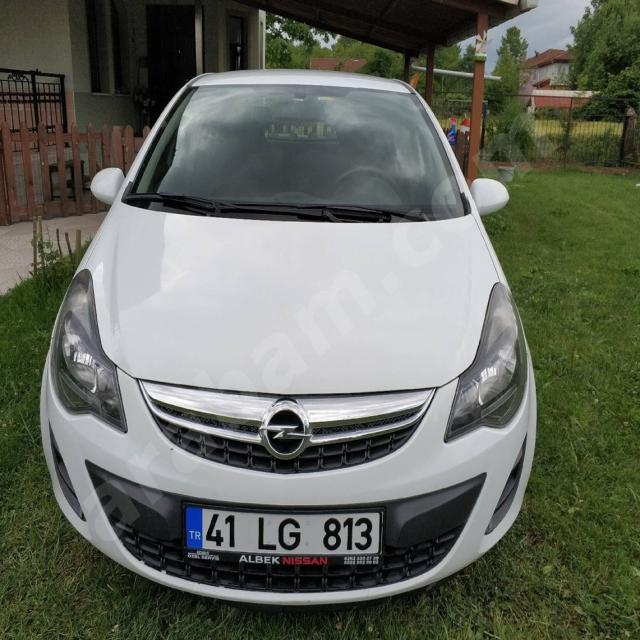license_plate: (184, 505, 382, 556)
